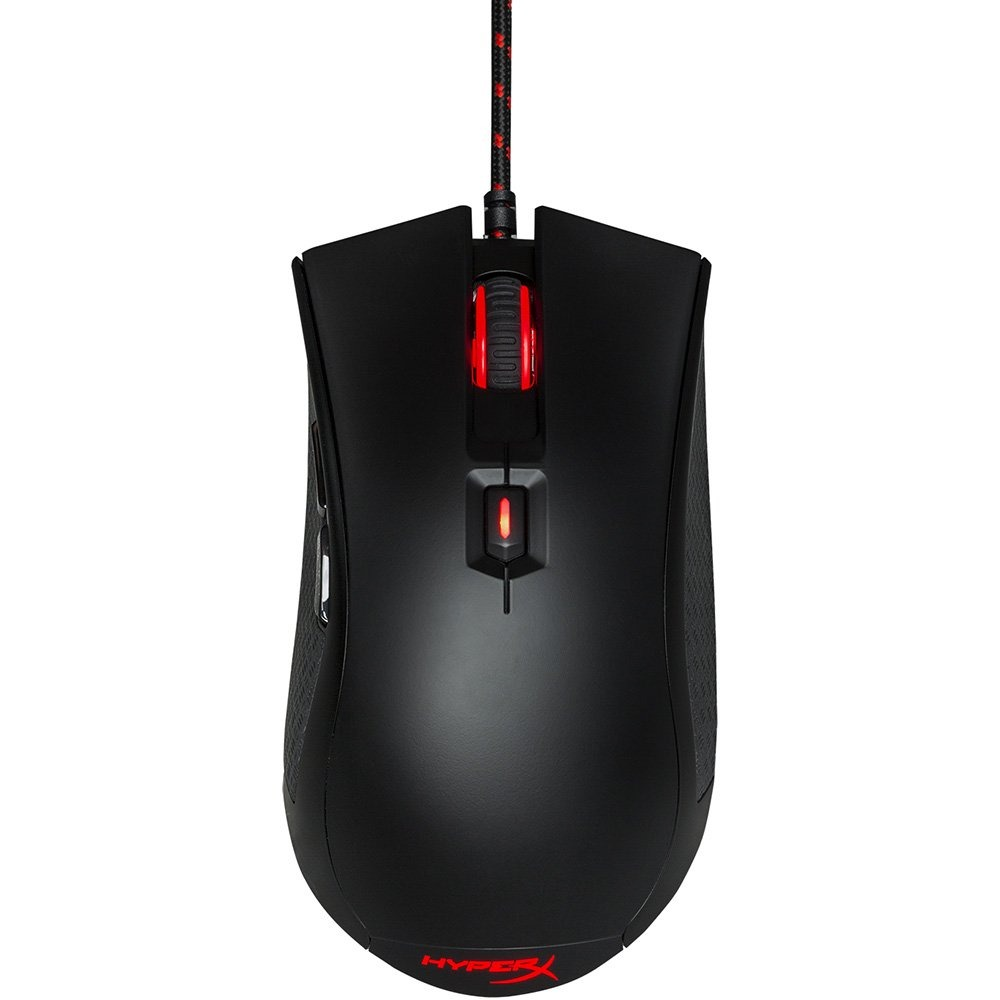mouse: (238, 205, 758, 1000)
